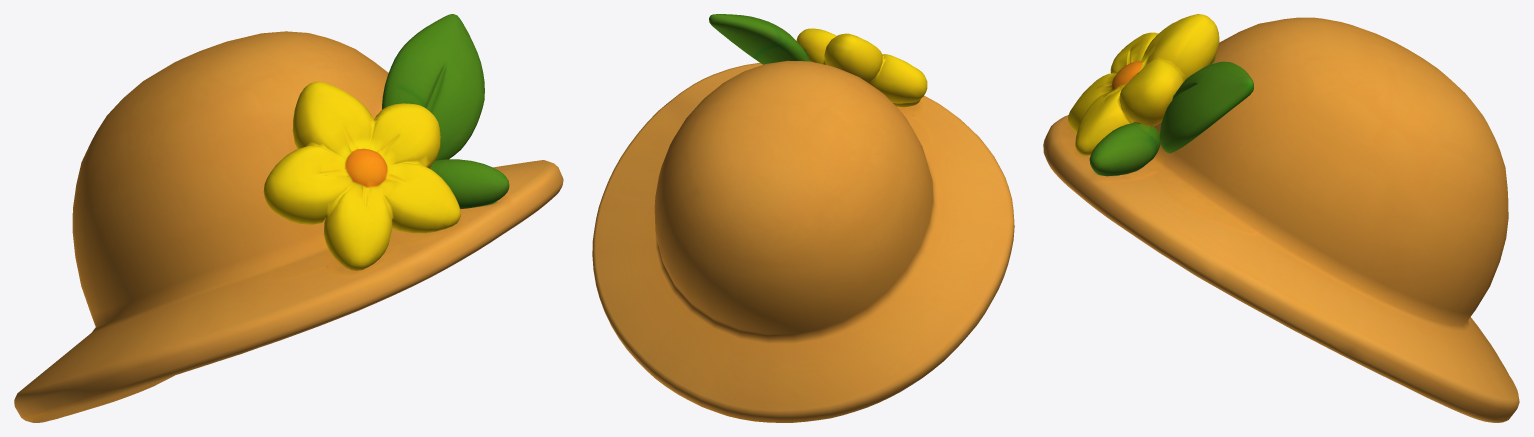
File: naia-weapon-hat.fbx
3 renders of one model, left to right at view 1: azimuth 30°, elevation 25°; view 2: azimuth 150°, elevation 25°; view 3: azimuth 270°, elevation 25°, orthographic. The views are drawn at different scales.
Parts seen in each view (by area): view 1: tripo_node_61f1ab79-d9f1-44b2-9a2a-1b8dc3647675; view 2: tripo_node_61f1ab79-d9f1-44b2-9a2a-1b8dc3647675; view 3: tripo_node_61f1ab79-d9f1-44b2-9a2a-1b8dc3647675.
Boxes of the visible parts, <box> form: tripo_node_61f1ab79-d9f1-44b2-9a2a-1b8dc3647675: <box>14,14,563,422</box>; tripo_node_61f1ab79-d9f1-44b2-9a2a-1b8dc3647675: <box>592,14,1014,422</box>; tripo_node_61f1ab79-d9f1-44b2-9a2a-1b8dc3647675: <box>1043,14,1519,422</box>.
Size of the model in its own units: 0.9995 by 0.8179 by 0.8872.
1 material, 1 textured.
